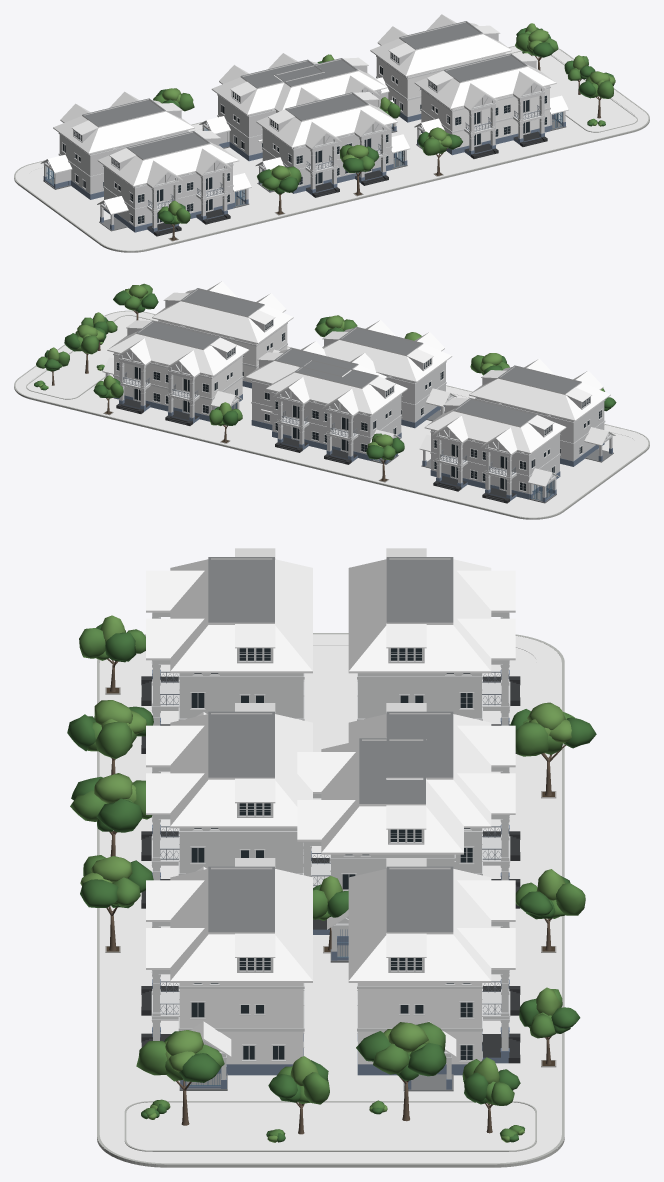
The model's file is troqtsckhu1.glb.
The picture shows the model from 3 angles, top to bottom: view 1: azimuth 30°, elevation 25°; view 2: azimuth 150°, elevation 25°; view 3: azimuth 270°, elevation 25°; orthographic projection. The views are drawn at different scales.
Visible parts, largest first — view 1: Main_Truncated_Hip_Roof (×5), Base_Plot_Ground, Main_Body (×4), Perimeter_Brick_Sidewalk, Front_Porches (×2), Main_Truncated_Hip_Roof_BrickN, Main_Truncated_Hip_Roof_BrickVar, Front_Gable_Roofs (×5), East_Grass_Park, Main_Body_BrickVar, Front_Porches_BrickVar, Perimeter_Concrete_Curb (+21 smaller); view 2: Main_Truncated_Hip_Roof (×5), Base_Plot_Ground, Main_Body (×5), Perimeter_Brick_Sidewalk, Front_Porches (×2), Main_Truncated_Hip_Roof_BrickVar, Main_Truncated_Hip_Roof_BrickN, Front_Gable_Roofs (×5), East_Grass_Park, Main_Body_BrickN, Front_Porches_BrickN, Perimeter_Concrete_Curb (+21 smaller); view 3: Main_Truncated_Hip_Roof (×5), Base_Plot_Ground, Perimeter_Brick_Sidewalk, East_Grass_Park, Front_Gable_Roofs (×5), Main_Body (×4), Main_Truncated_Hip_Roof_BrickN, Main_Truncated_Hip_Roof_BrickVar, Front_Porches (×5), Main_Body_BrickVar, Main_Body_BrickN, Attic_Dormer_Roofs (×4) (+24 smaller).
Boxes of the visible parts, left/top/right/bottom form: Main_Truncated_Hip_Roof (×5): left=53, top=58, right=397, bottom=186; Base_Plot_Ground: left=14, top=54, right=649, bottom=252; Main_Body (×4): left=59, top=96, right=391, bottom=226; Perimeter_Brick_Sidewalk: left=15, top=46, right=648, bottom=250; Front_Porches (×2): left=147, top=121, right=388, bottom=236; Main_Truncated_Hip_Roof_BrickN: left=370, top=21, right=511, bottom=76; Main_Truncated_Hip_Roof_BrickVar: left=414, top=53, right=556, bottom=109; Front_Gable_Roofs (×5): left=60, top=53, right=390, bottom=187; East_Grass_Park: left=511, top=51, right=636, bottom=131; Main_Body_BrickVar: left=421, top=85, right=549, bottom=148; Front_Porches_BrickVar: left=464, top=83, right=547, bottom=158; Perimeter_Concrete_Curb: left=14, top=45, right=649, bottom=252; Main_Truncated_Hip_Roof (×5): left=245, top=326, right=610, bottom=453; Base_Plot_Ground: left=14, top=320, right=649, bottom=519; Main_Body (×5): left=252, top=363, right=604, bottom=493; Perimeter_Brick_Sidewalk: left=15, top=311, right=648, bottom=517; Front_Porches (×2): left=275, top=388, right=516, bottom=503; Main_Truncated_Hip_Roof_BrickVar: left=152, top=288, right=293, bottom=343; Main_Truncated_Hip_Roof_BrickN: left=107, top=320, right=249, bottom=376; Front_Gable_Roofs (×5): left=273, top=320, right=603, bottom=454; East_Grass_Park: left=27, top=316, right=152, bottom=398; Main_Body_BrickN: left=114, top=352, right=242, bottom=415; Front_Porches_BrickN: left=116, top=350, right=199, bottom=425; Perimeter_Concrete_Curb: left=14, top=310, right=649, bottom=519; Main_Truncated_Hip_Roof (×5): left=170, top=557, right=491, bottom=854; Base_Plot_Ground: left=97, top=645, right=563, bottom=1167; Perimeter_Brick_Sidewalk: left=99, top=634, right=561, bottom=1163; East_Grass_Park: left=126, top=1102, right=535, bottom=1150; Front_Gable_Roofs (×5): left=146, top=570, right=515, bottom=841; Main_Body (×4): left=179, top=673, right=481, bottom=935; Main_Truncated_Hip_Roof_BrickN: left=348, top=866, right=491, bottom=982; Main_Truncated_Hip_Roof_BrickVar: left=170, top=866, right=312, bottom=982; Front_Porches (×5): left=141, top=612, right=520, bottom=934; Main_Body_BrickVar: left=179, top=983, right=303, bottom=1064; Main_Body_BrickN: left=358, top=983, right=481, bottom=1064; Attic_Dormer_Roofs (×4): left=235, top=548, right=426, bottom=829.
Bounding box in the file's own units: 93.42 × 10.71 × 39.33.
